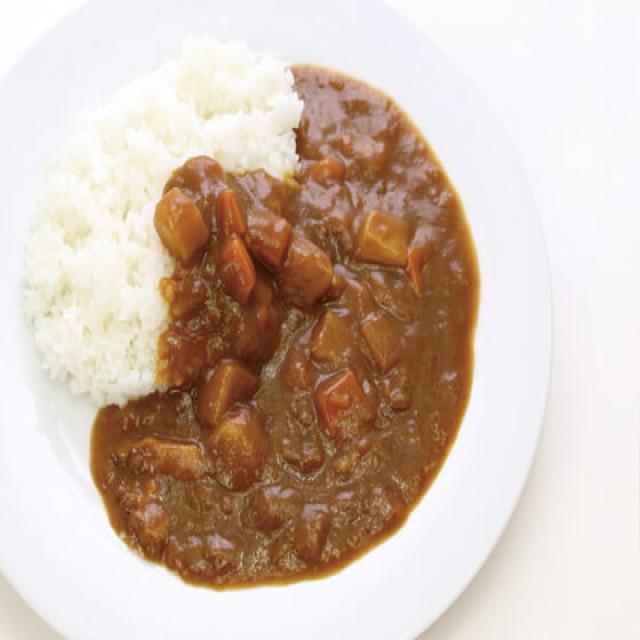Wet: (21, 57, 492, 594)
